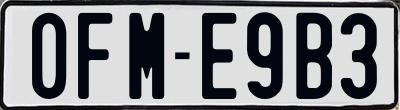0: (29, 13, 68, 102)
3: (339, 12, 377, 99)
9: (245, 9, 282, 99)
B: (296, 10, 338, 98)
E: (201, 11, 241, 101)
F: (76, 13, 116, 105)
M: (129, 12, 166, 100)
